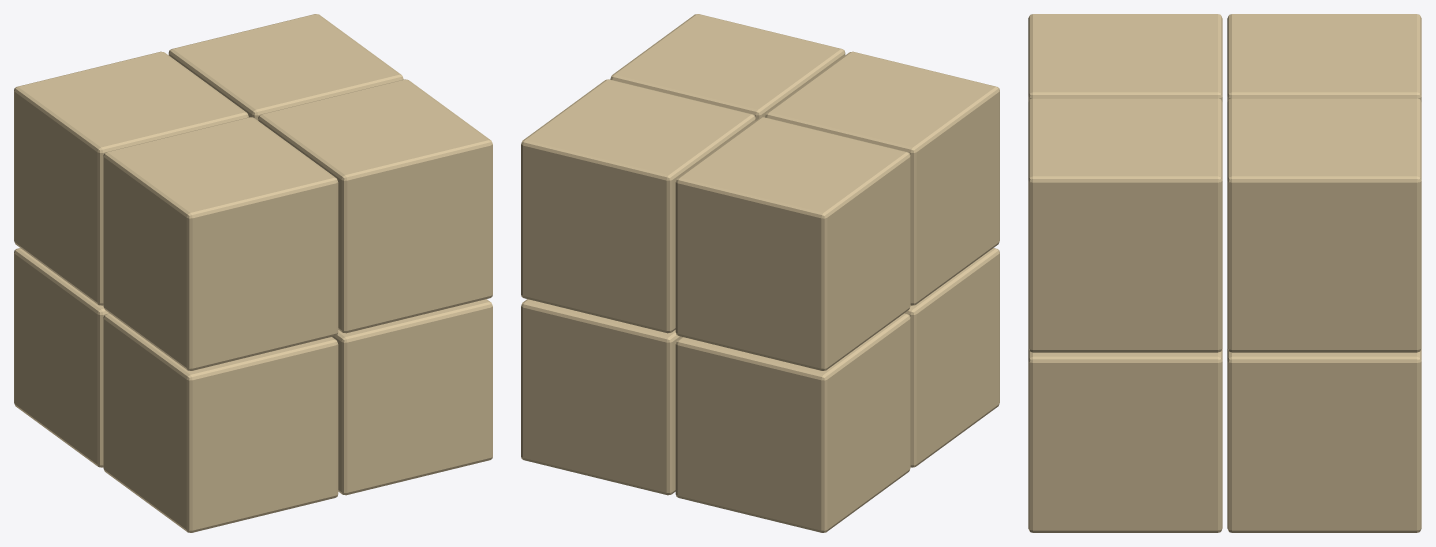
Rendered from block-crumble-fragments.glb.
3 views of the same model, side by side, from view 1: azimuth 30°, elevation 25°; view 2: azimuth 150°, elevation 25°; view 3: azimuth 270°, elevation 25° (orthographic). The views are drawn at different scales.
Visible parts, largest first — view 1: shard-(-1, -1, 1), shard-(-1, -1, -1), shard-(1, -1, 1), shard-(-1, 1, 1), shard-(1, -1, -1), shard-(-1, 1, -1), shard-(1, 1, 1); view 2: shard-(-1, 1, 1), shard-(-1, 1, -1), shard-(1, 1, 1), shard-(-1, -1, 1), shard-(1, 1, -1), shard-(-1, -1, -1), shard-(1, -1, 1); view 3: shard-(1, -1, 1), shard-(1, 1, 1), shard-(1, -1, -1), shard-(1, 1, -1), shard-(-1, -1, 1), shard-(-1, 1, 1).
Part boxes in pixels (left/top/right/bottom): shard-(-1, -1, 1): left=103, top=117, right=338, bottom=370; shard-(-1, -1, -1): left=103, top=313, right=338, bottom=532; shard-(1, -1, 1): left=258, top=79, right=492, bottom=333; shard-(-1, 1, 1): left=14, top=51, right=248, bottom=305; shard-(1, -1, -1): left=332, top=299, right=492, bottom=495; shard-(-1, 1, -1): left=14, top=248, right=108, bottom=467; shard-(1, 1, 1): left=168, top=14, right=403, bottom=120; shard-(-1, 1, 1): left=675, top=117, right=910, bottom=370; shard-(-1, 1, -1): left=675, top=313, right=910, bottom=532; shard-(1, 1, 1): left=521, top=79, right=755, bottom=333; shard-(-1, -1, 1): left=765, top=51, right=999, bottom=305; shard-(1, 1, -1): left=521, top=299, right=681, bottom=495; shard-(-1, -1, -1): left=905, top=248, right=999, bottom=467; shard-(1, -1, 1): left=610, top=14, right=845, bottom=120; shard-(1, -1, 1): left=1028, top=98, right=1222, bottom=352; shard-(1, 1, 1): left=1227, top=98, right=1421, bottom=352; shard-(1, -1, -1): left=1028, top=348, right=1222, bottom=532; shard-(1, 1, -1): left=1227, top=348, right=1421, bottom=532; shard-(-1, -1, 1): left=1028, top=14, right=1222, bottom=101; shard-(-1, 1, 1): left=1227, top=14, right=1421, bottom=101.
Size of the model in its own units: 0.988 by 0.988 by 0.988.
